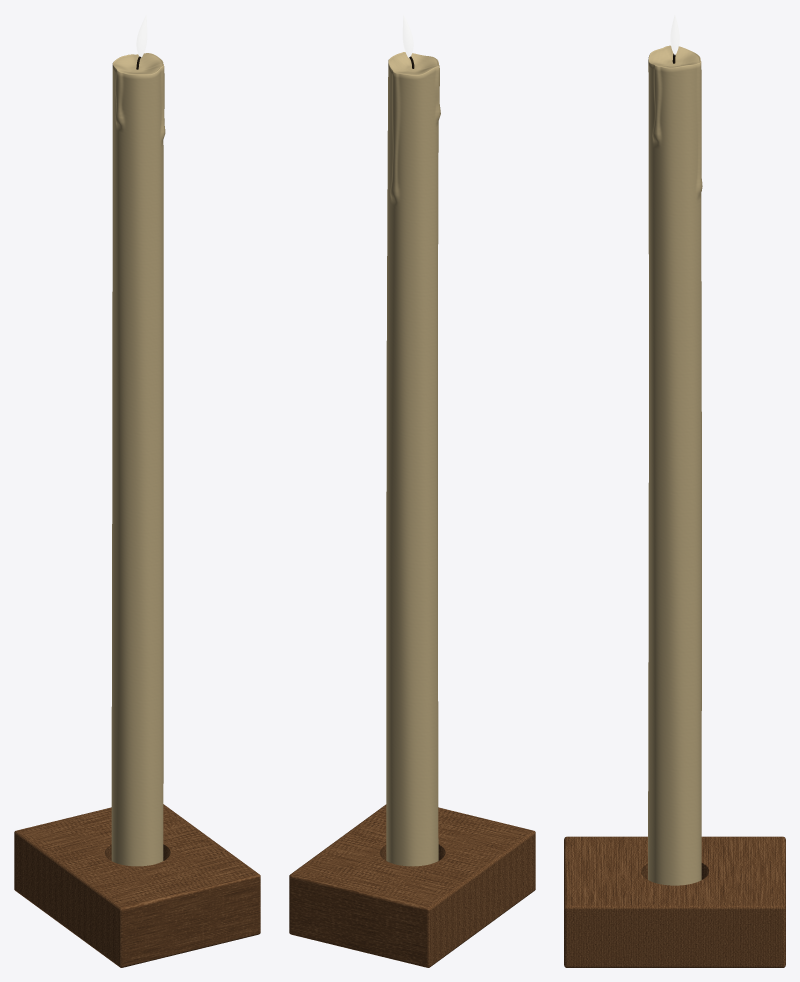
The model's file is cirio_1.gltf.
3 views of the same model, side by side, from view 1: azimuth 30°, elevation 25°; view 2: azimuth 150°, elevation 25°; view 3: azimuth 270°, elevation 25° (orthographic). The views are drawn at different scales.
Visible parts, largest first — view 1: cera_1, base_madera_individual; view 2: cera_1, base_madera_individual; view 3: cera_1, base_madera_individual.
Part boxes in pixels (x1,y1,x2,y2): cera_1: (111,53,165,866); base_madera_individual: (14,804,260,967); cera_1: (386,52,440,866); base_madera_individual: (289,804,535,967); cera_1: (648,45,702,885); base_madera_individual: (564,836,785,967).
Bounding box in the file's own units: 0.11 × 0.6665 × 0.145.
Materials: 4 (2 with a texture image).
